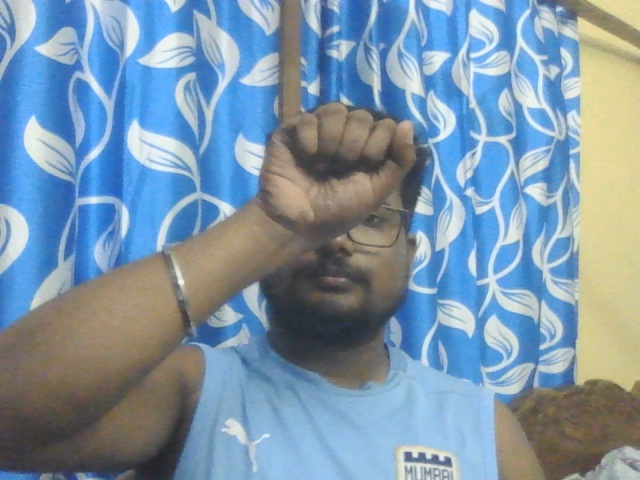A: (260, 103, 418, 226)
